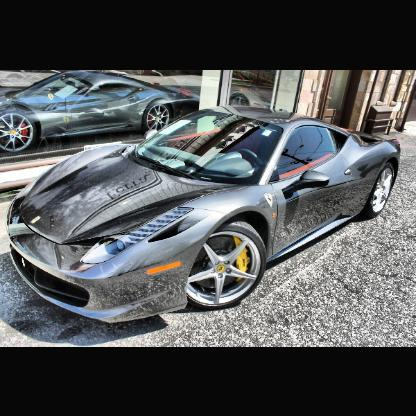Ferrari 458 Italia Coupe 2012: (8, 108, 403, 323)
